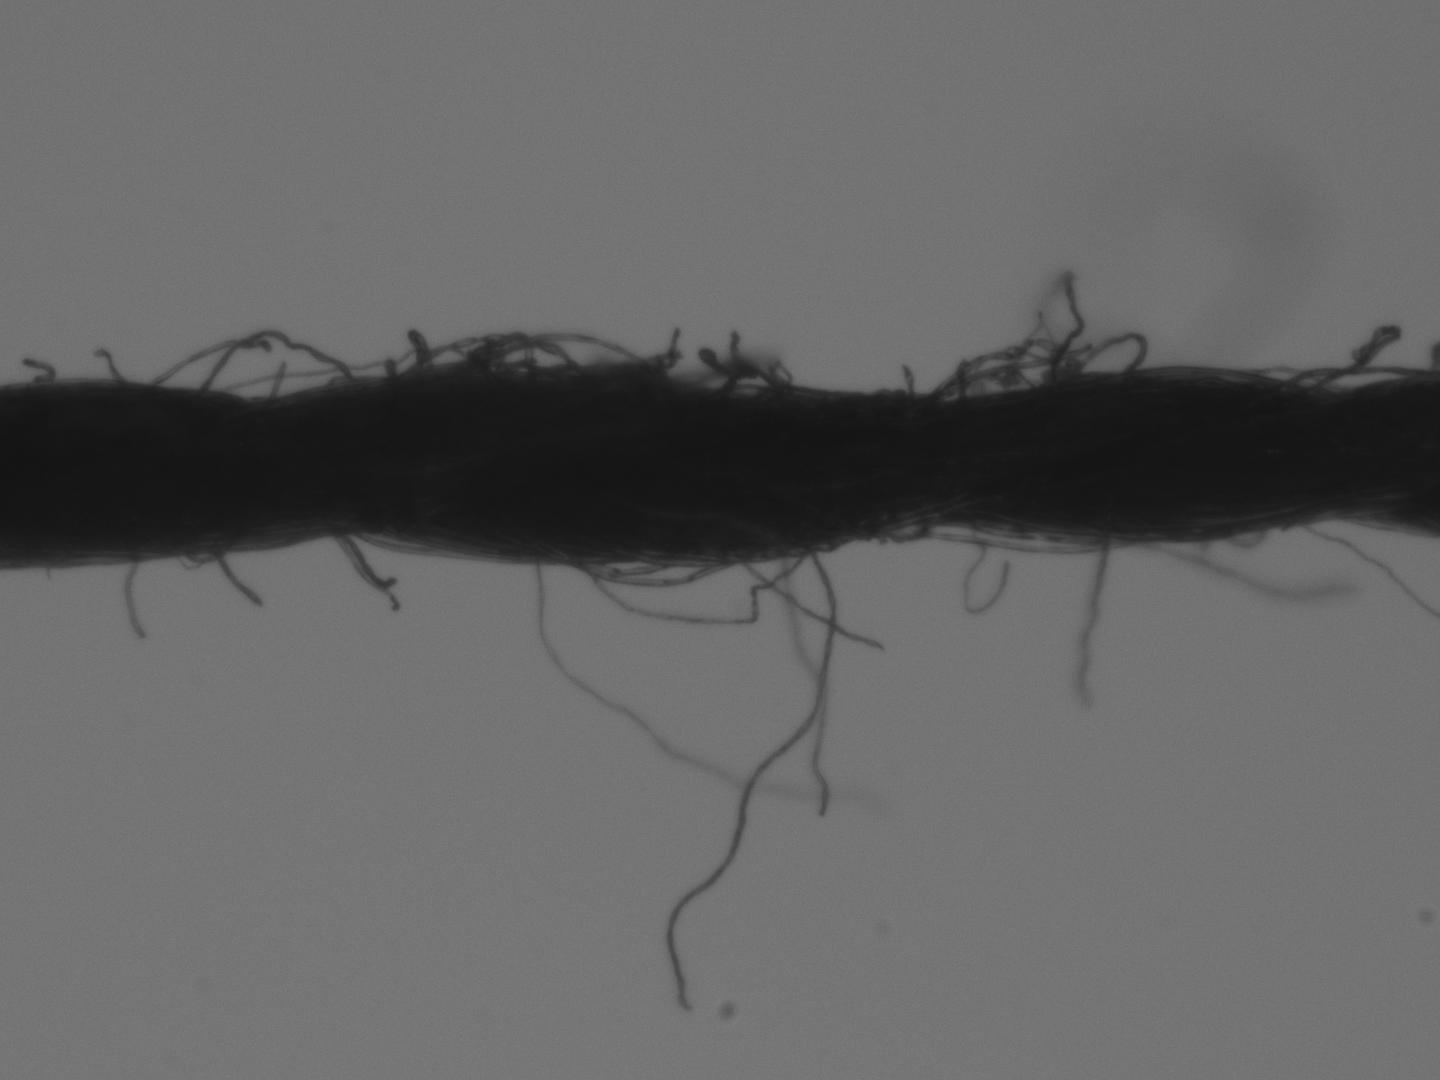loop_fiber: (578, 551, 806, 628), (925, 335, 1094, 398), (198, 329, 354, 396), (471, 331, 650, 379), (395, 334, 570, 378), (559, 557, 721, 591), (1069, 331, 1145, 378), (1288, 362, 1414, 389), (719, 365, 823, 395), (874, 517, 934, 546), (183, 542, 234, 567)
protruding_fiber: (663, 550, 837, 1013), (734, 552, 881, 651), (1078, 535, 1117, 699), (333, 530, 401, 609), (206, 545, 271, 604), (124, 555, 150, 640), (899, 360, 910, 394)
